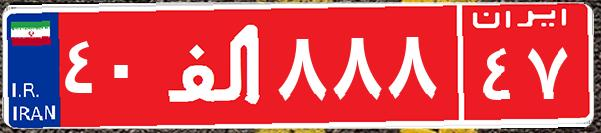0: (110, 28, 158, 105)
4: (57, 26, 110, 107), (475, 38, 525, 113)
7: (525, 38, 570, 115)
8: (385, 28, 445, 110), (273, 28, 330, 110), (330, 28, 385, 110)
الف: (158, 15, 273, 115)
